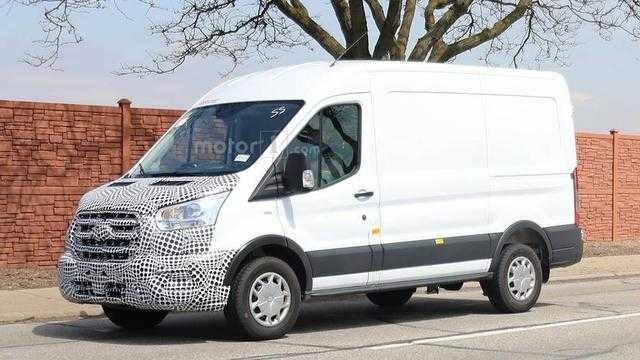van: (56, 59, 584, 341)
